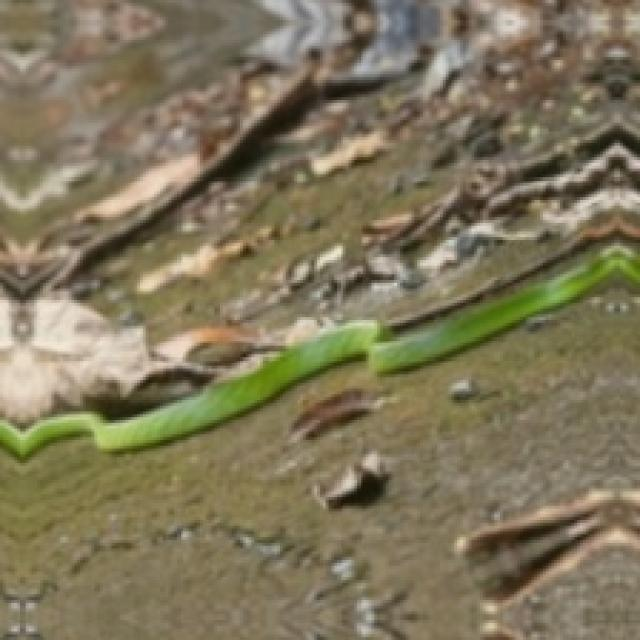red-tailed green ratsnake: (0, 246, 637, 454)
